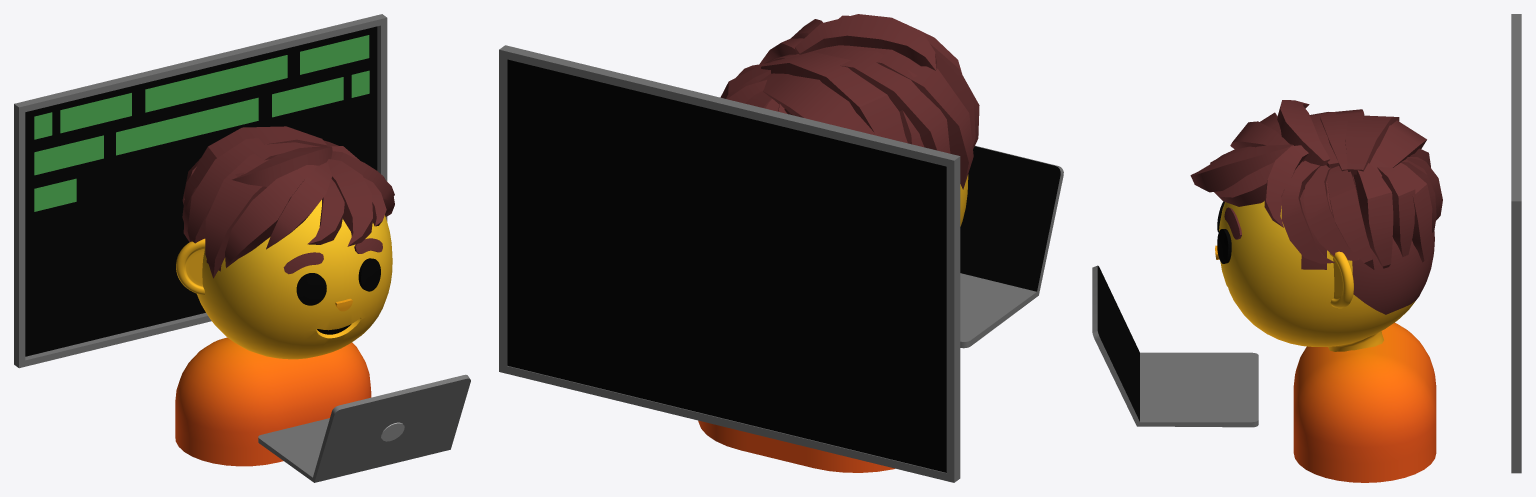
Rendered from technologist.glb.
3 renders of one model, left to right at view 1: azimuth 30°, elevation 25°; view 2: azimuth 150°, elevation 25°; view 3: azimuth 270°, elevation 25°, orthographic. The views are drawn at different scales.
Visible parts, largest first — view 1: Plane.060, Cube.1453, Roundcube.116, Sphere.076, Plane.061, Circle.687, Cylinder.100, Circle.689; view 2: Plane.060, Cube.1453, Plane.061, Sphere.076; view 3: Cube.1453, Sphere.076, Roundcube.116, Plane.061, Plane.060, Cylinder.100, Circle.687.
Boxes of the visible parts, x1,y1,x2,y2 form: Plane.060: (14, 14, 387, 368); Cube.1453: (182, 126, 394, 278); Roundcube.116: (197, 200, 392, 359); Sphere.076: (175, 337, 371, 466); Plane.061: (258, 374, 470, 482); Circle.687: (296, 258, 380, 305); Cylinder.100: (176, 217, 386, 295); Circle.689: (283, 238, 382, 274); Plane.060: (499, 45, 960, 482); Cube.1453: (720, 14, 979, 189); Plane.061: (960, 145, 1063, 348); Sphere.076: (698, 420, 894, 472); Cube.1453: (1190, 100, 1442, 269); Sphere.076: (1293, 322, 1436, 482); Roundcube.116: (1219, 161, 1434, 351); Plane.061: (1092, 265, 1258, 427); Plane.060: (1511, 14, 1521, 473); Cylinder.100: (1329, 251, 1353, 308); Circle.687: (1217, 201, 1231, 263).
Bounding box in the file's own units: 3.11 × 2.55 × 3.01.
1 material, 1 textured.
